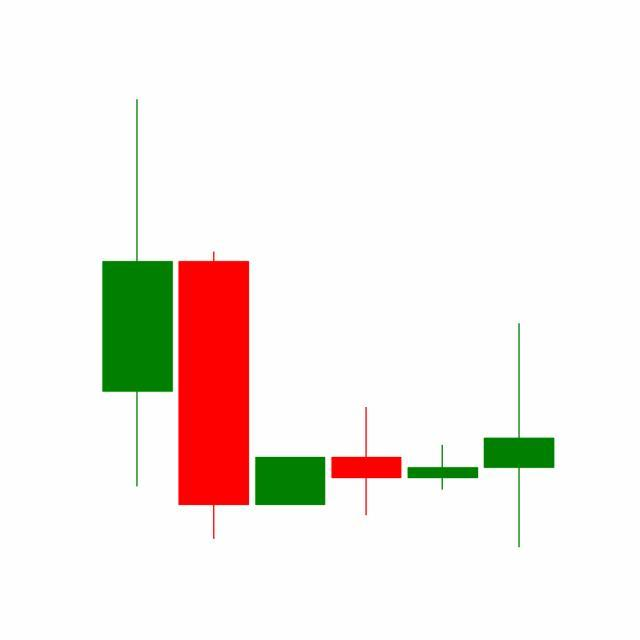Spinning Top: (404, 444, 482, 492)
